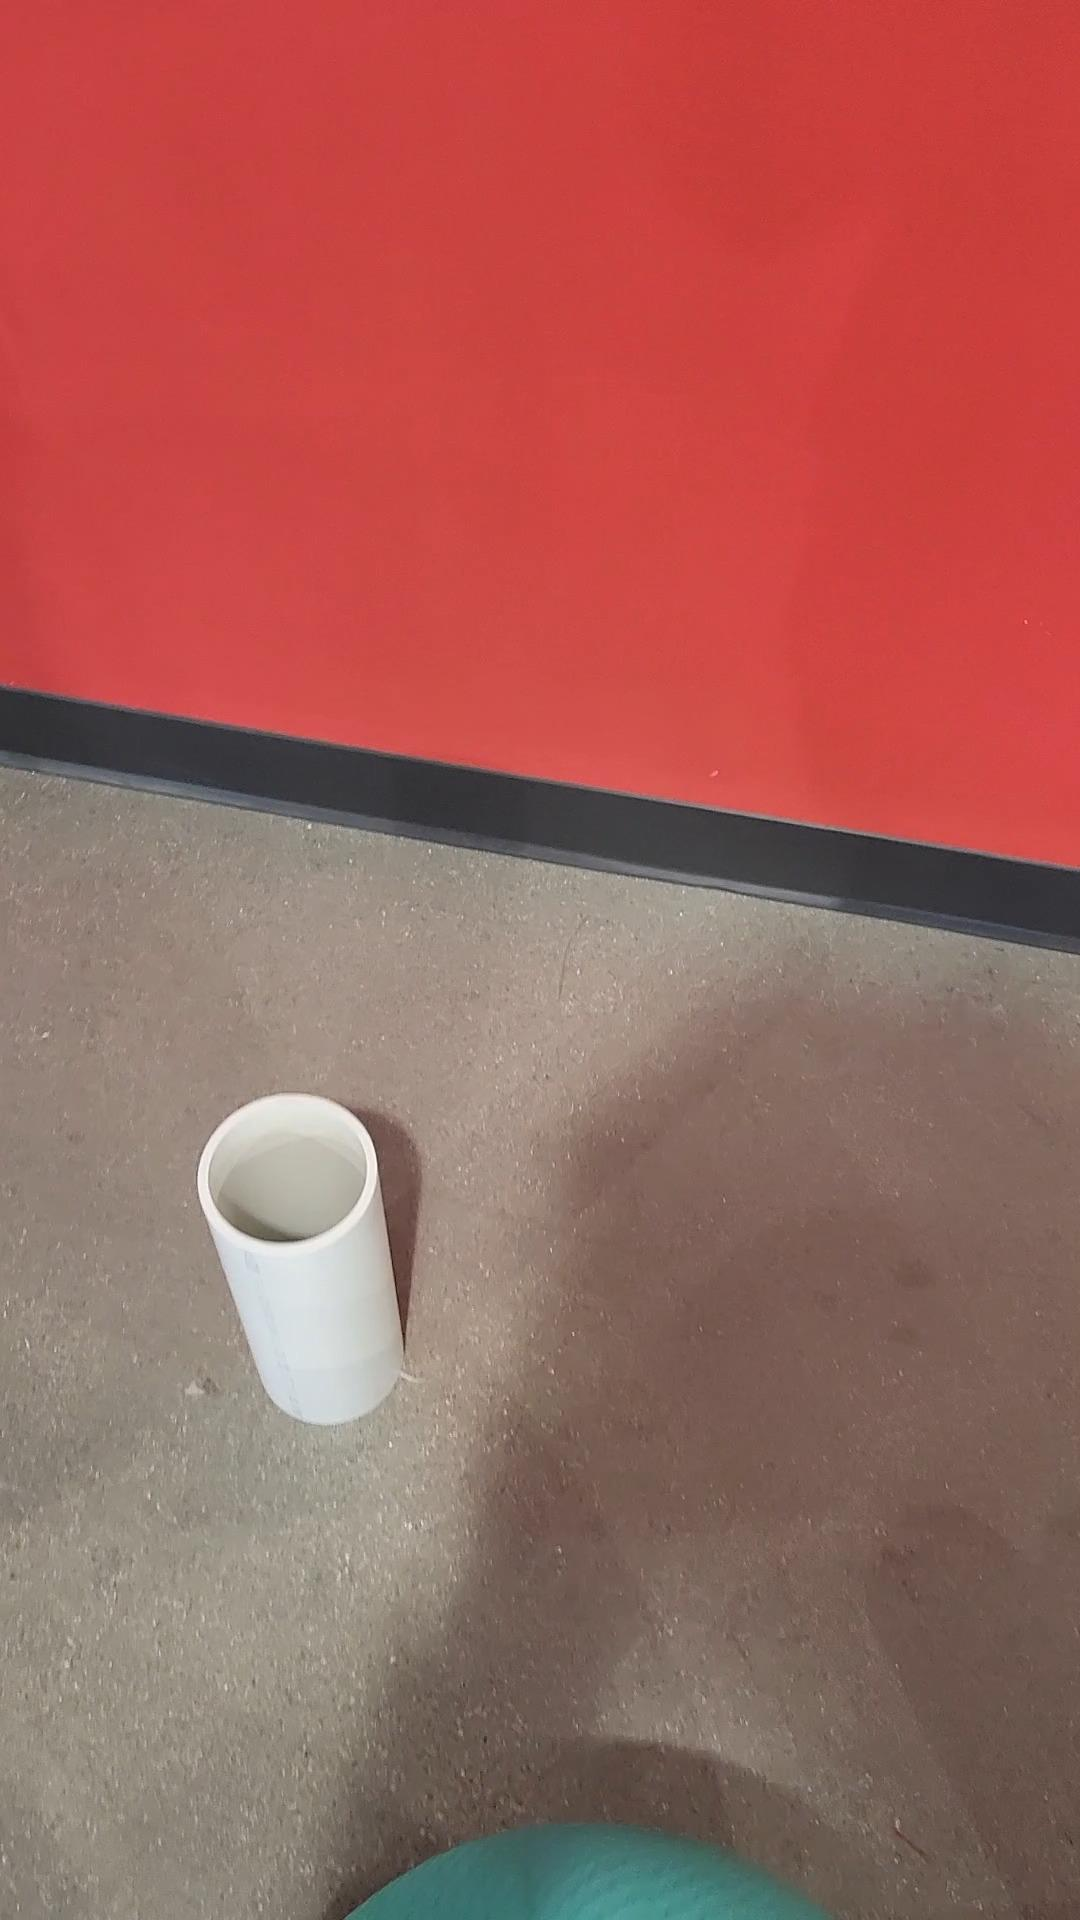algae: (338, 1815, 840, 1920)
coral: (195, 1092, 407, 1427)
